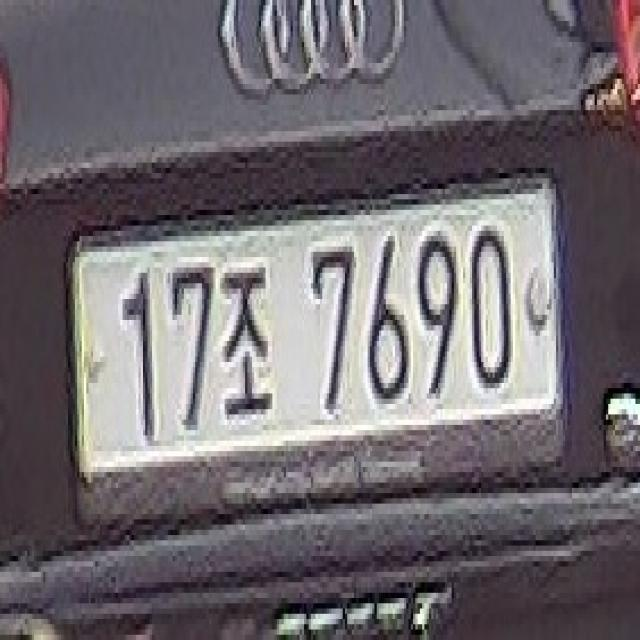0: (465, 215, 520, 399)
1: (120, 246, 163, 456)
6: (361, 226, 413, 420)
7: (306, 231, 358, 425), (168, 252, 220, 440)
9: (415, 215, 461, 415)
jo: (220, 257, 275, 435)
license_plate: (61, 152, 572, 535)
